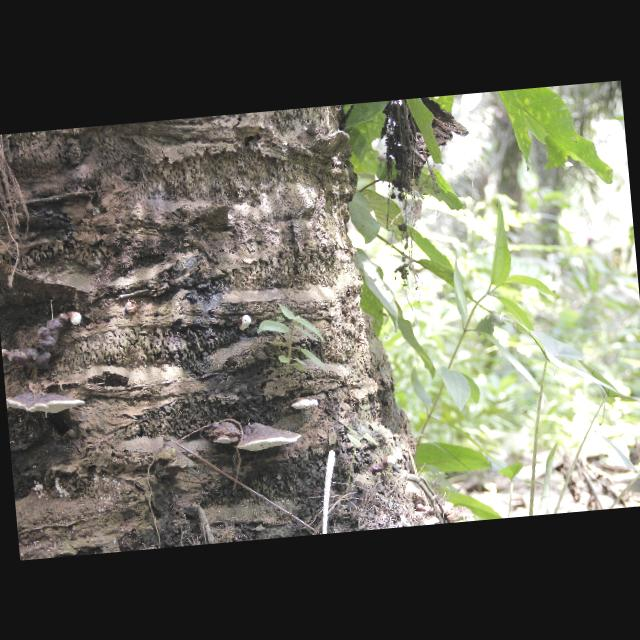ganoderma: (6, 313, 73, 374), (6, 388, 86, 419), (236, 420, 303, 455), (203, 421, 244, 447), (444, 505, 476, 525), (289, 397, 319, 411)
primordium: (369, 456, 398, 475), (237, 316, 252, 332), (68, 312, 82, 328), (3, 350, 9, 360)
